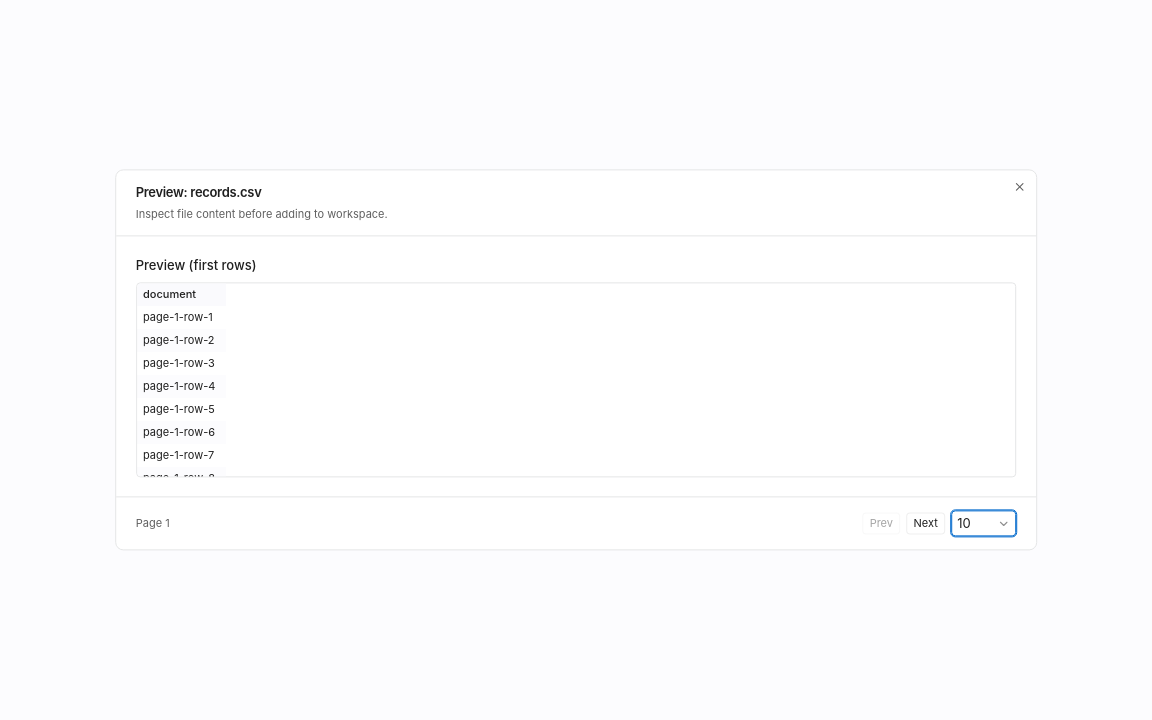
Test: FilePreviewPanel pagination › returns to page 1 when the page size changes
Click the button "Next" at (926, 524), box top-left (906, 513), bottom-right (945, 535)
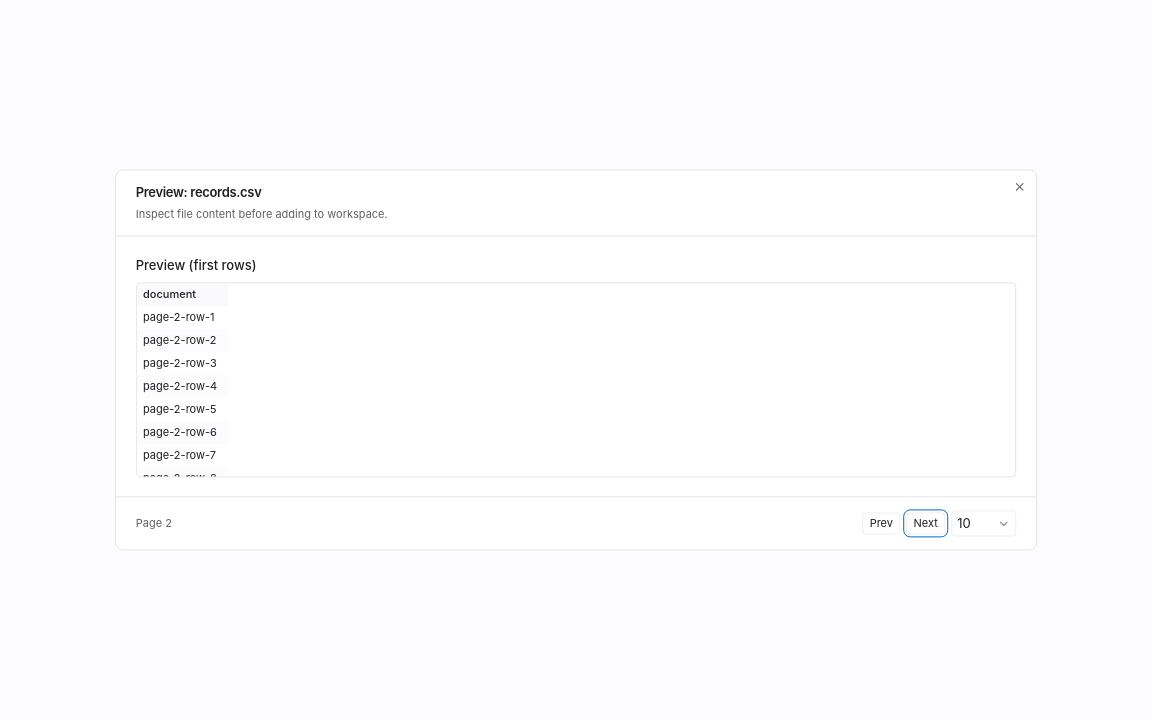
Click the dropdown named "Rows per page" at (984, 524), box top-left (951, 511), bottom-right (1016, 537)
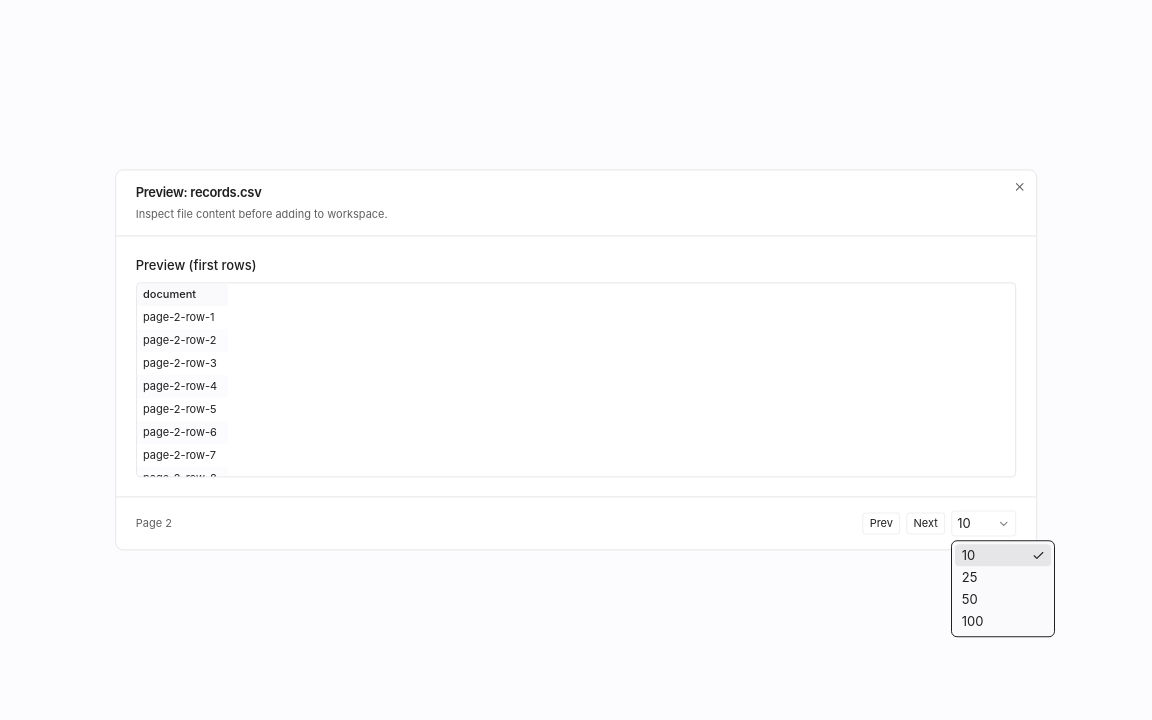
Click the option "25" at (970, 577), box top-left (962, 569), bottom-right (977, 585)
(page scrolled)
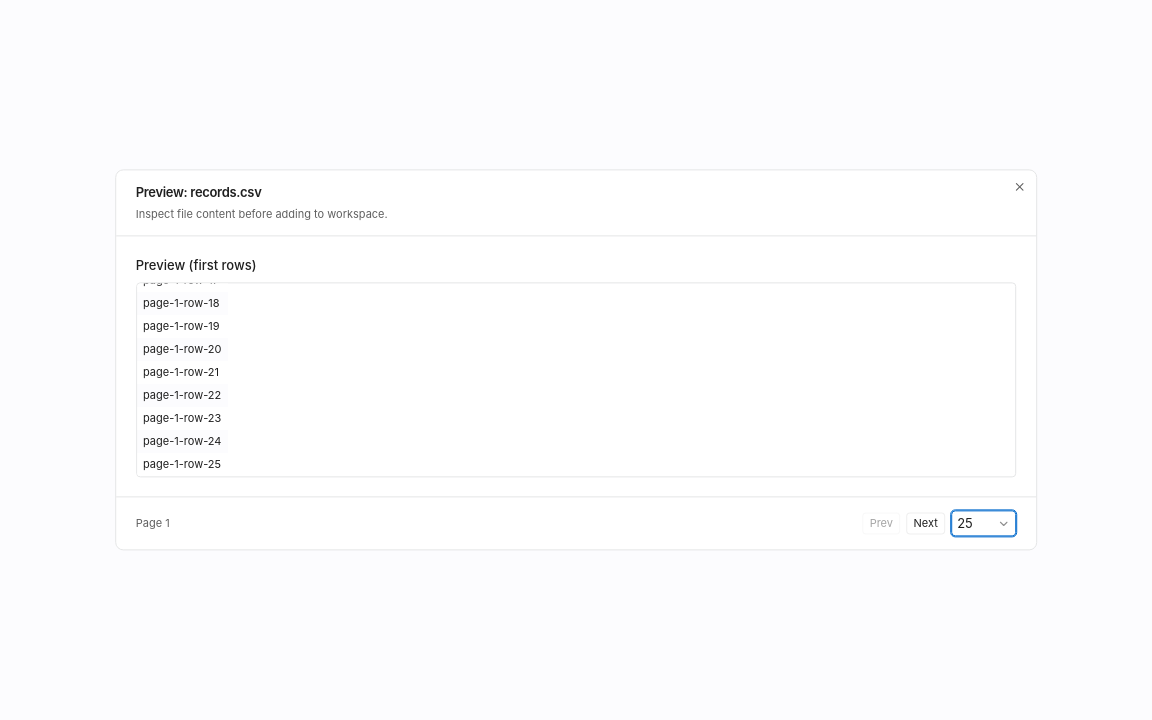
Result: the text "page-1-row-25" is shown at top-left (137, 453), bottom-right (228, 476)
